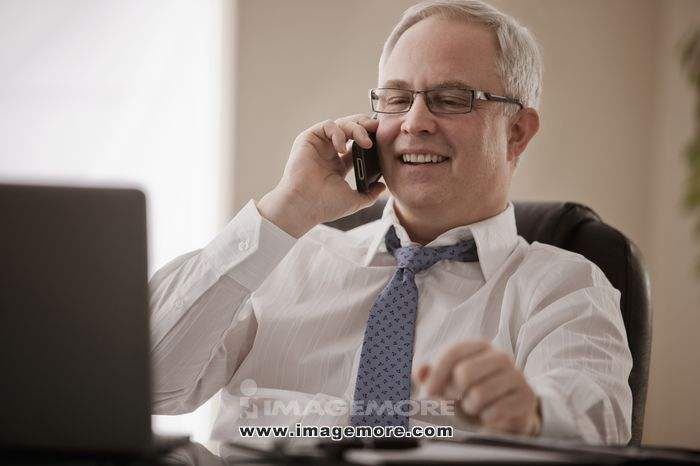talk: (281, 67, 482, 231)
